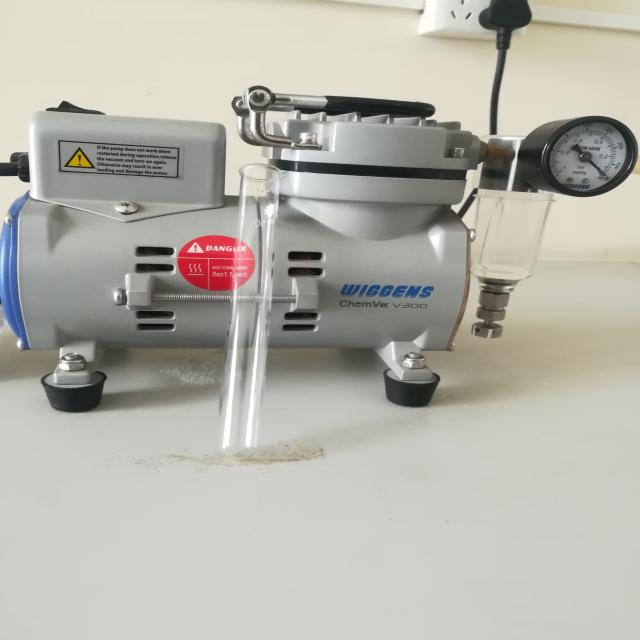Test_Tube: (190, 134, 326, 492)
